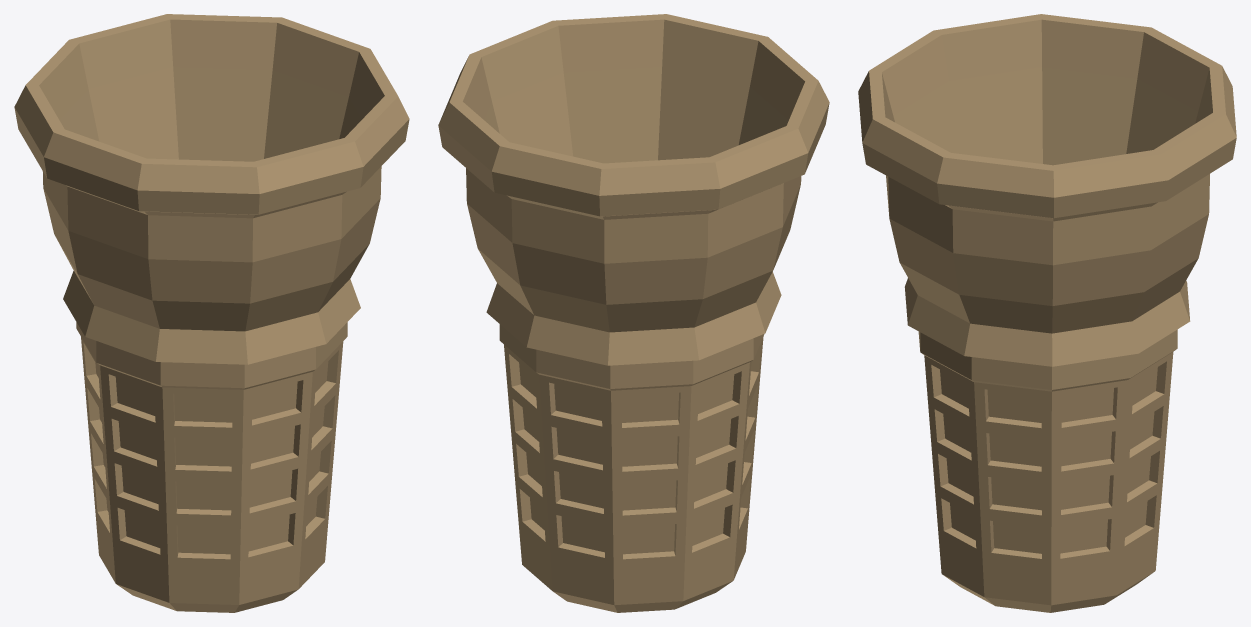
Rendered from IceCream_Cone2.glb.
3 renders of one model, left to right at view 1: azimuth 30°, elevation 25°; view 2: azimuth 150°, elevation 25°; view 3: azimuth 270°, elevation 25°, orthographic.
Visible parts, largest first — view 1: IceCream_Cone2; view 2: IceCream_Cone2; view 3: IceCream_Cone2.
Part boxes in pixels (left/top/right/bottom): IceCream_Cone2: left=14, top=14, right=409, bottom=612; IceCream_Cone2: left=438, top=14, right=829, bottom=612; IceCream_Cone2: left=858, top=14, right=1236, bottom=612.
Bounding box in the file's own units: 0.4668 × 0.6297 × 0.4488.
